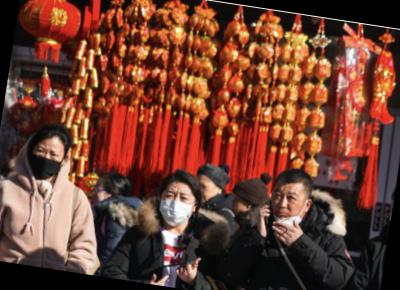mask_weared_incorrect: (268, 184, 308, 229)
with_mask: (25, 139, 66, 181), (159, 188, 197, 229)
without_mask: (230, 195, 251, 218), (92, 184, 111, 207)
